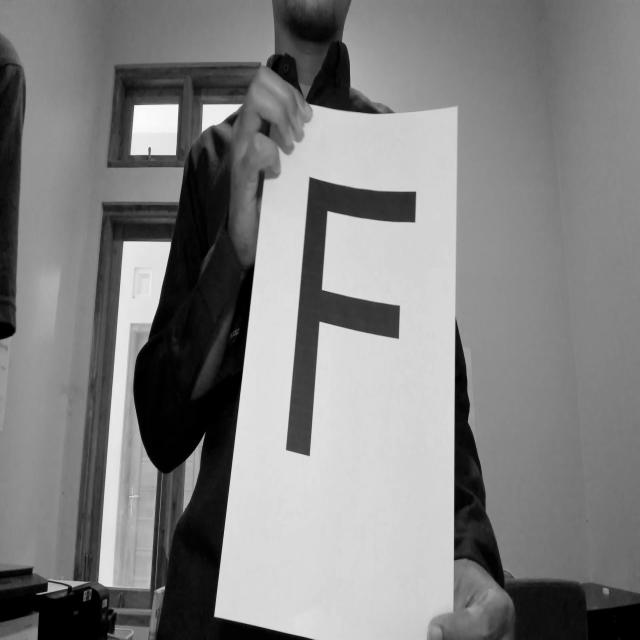f: (280, 165, 422, 477)
